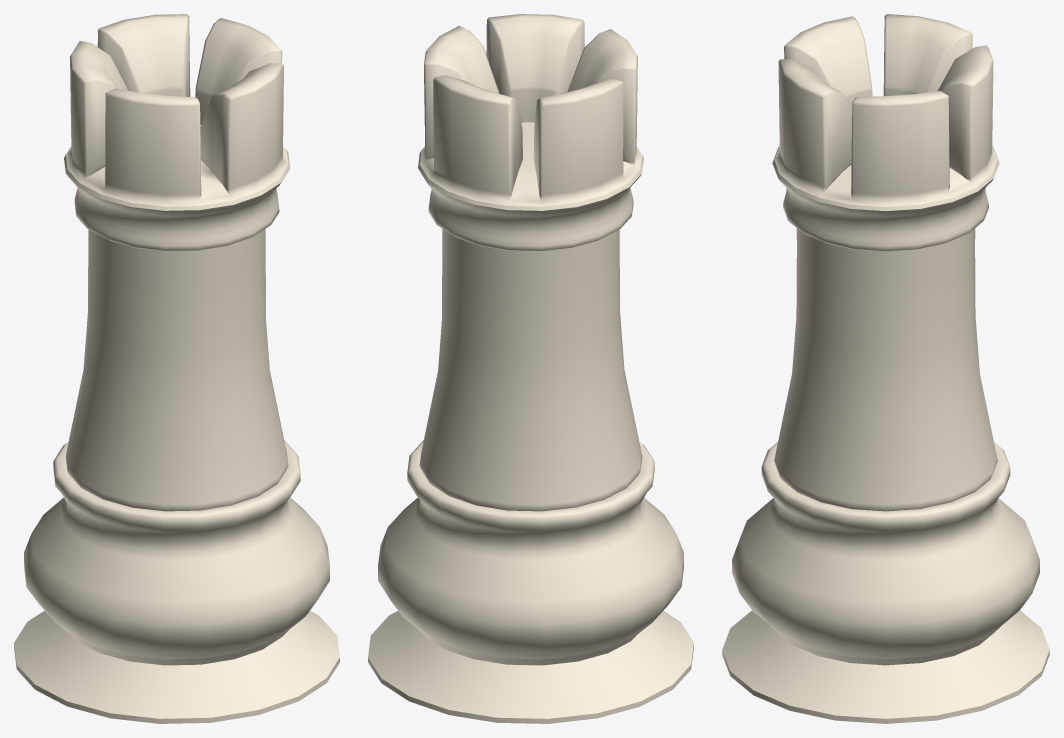
The model's file is white-rook.glb.
3 renders of one model, left to right at view 1: azimuth 30°, elevation 25°; view 2: azimuth 150°, elevation 25°; view 3: azimuth 270°, elevation 25°, orthographic.
Visible parts, largest first — view 1: Rook; view 2: Rook; view 3: Rook.
Boxes of the visible parts, box(x1,y1,x2,y2) form: Rook: box(14, 14, 339, 723); Rook: box(368, 14, 693, 723); Rook: box(722, 14, 1049, 723).
Bounding box in the file's own units: 0.0411 × 0.0828 × 0.0411.
